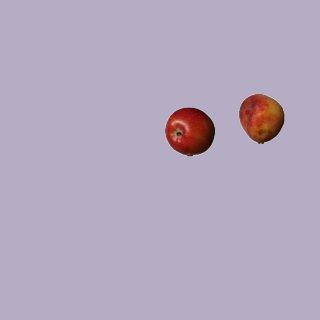Apple Braeburn: (164, 106, 214, 156)
Peach: (236, 93, 286, 143)
